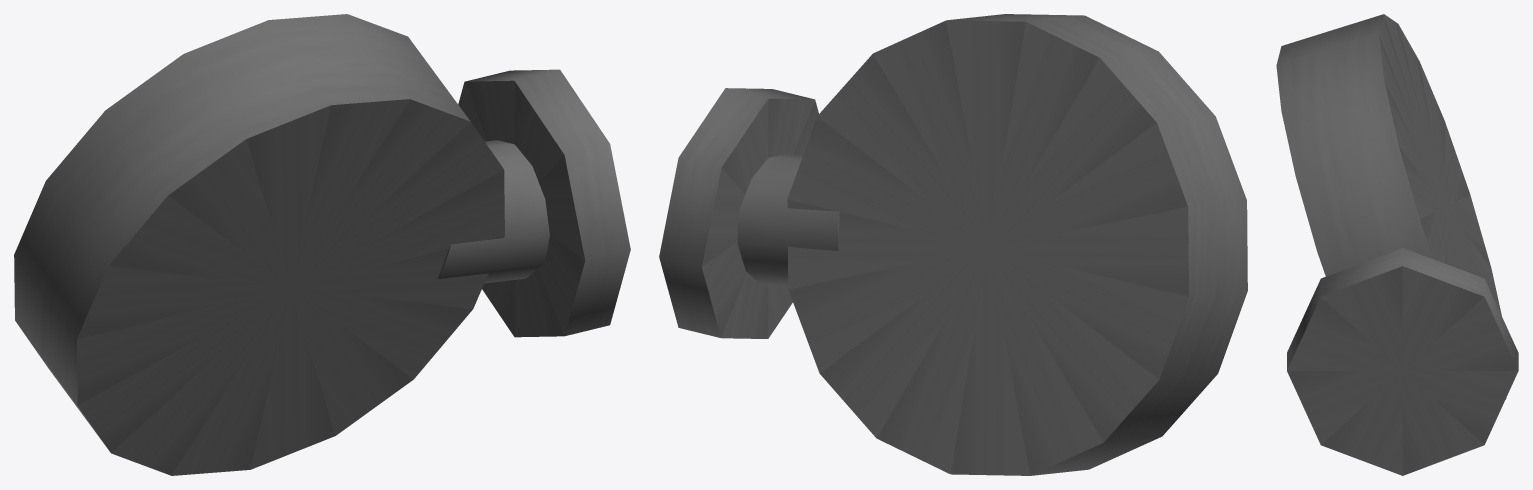
File: mastarmcurve_8x2_c3_east.obj
The picture shows the model from 3 angles, left to right: view 1: azimuth 30°, elevation 25°; view 2: azimuth 150°, elevation 25°; view 3: azimuth 270°, elevation 25°; orthographic projection. The views are drawn at different scales.
Parts seen in each view (by area): view 1: mastarm_8x2_c3_east; view 2: mastarm_8x2_c3_east; view 3: mastarm_8x2_c3_east.
Boxes of the visible parts, bbox=[...] form: mastarm_8x2_c3_east: bbox=[14, 14, 630, 475]; mastarm_8x2_c3_east: bbox=[659, 14, 1247, 475]; mastarm_8x2_c3_east: bbox=[1276, 14, 1518, 475].
Size of the model in its own units: 0.8487 by 0.7216 by 0.4181.
